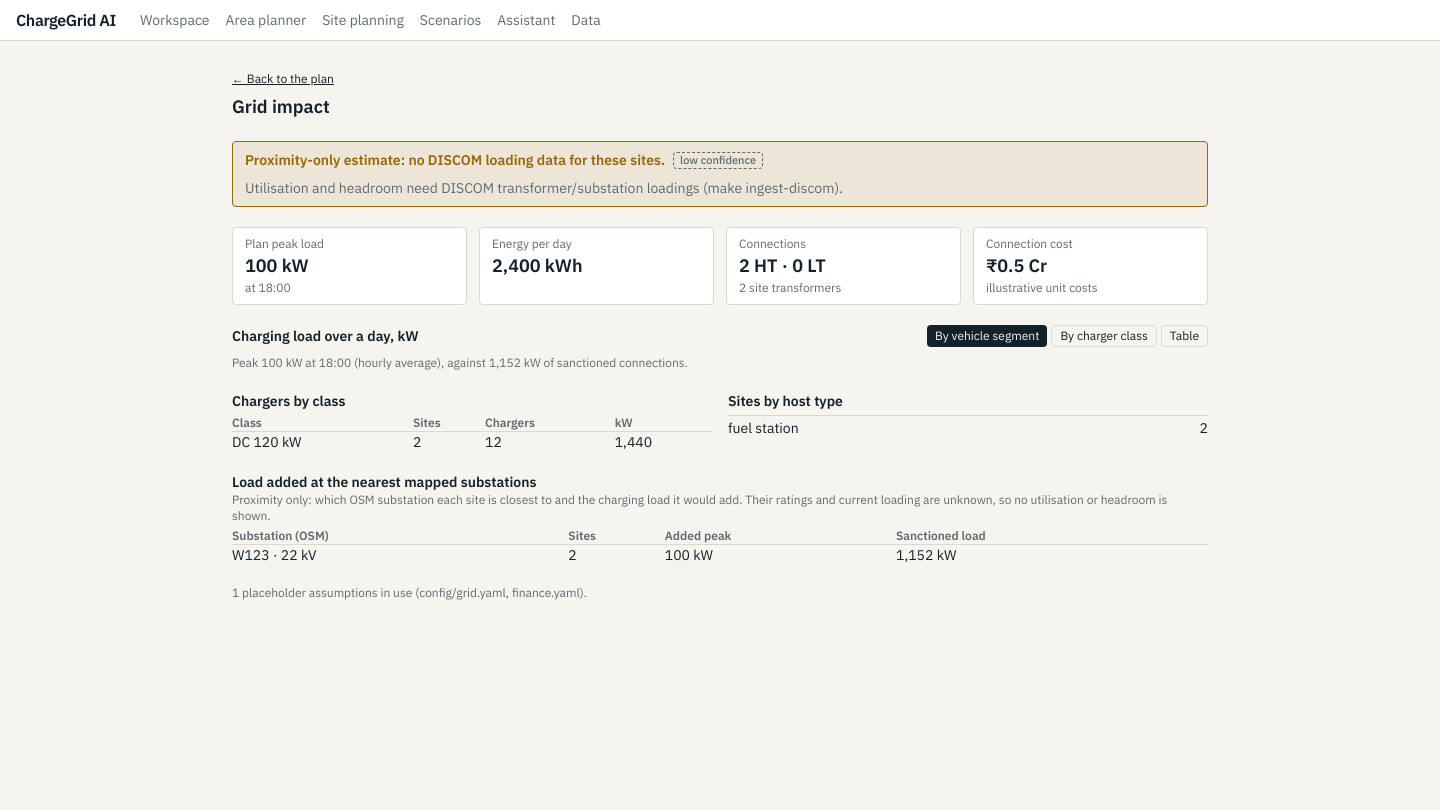
GridImpactPage › labels a proximity-only estimate and shows no utilisation
This screenshot has width=1440, height=810.
Expected: the text "Proximity-only estimate" is shown, [245,151,661,169]
Expected: the text "low confidence" is shown, [673,152,763,168]
Step 1. Click the button "Table" → click(1184, 336), box [1161,325,1208,347]
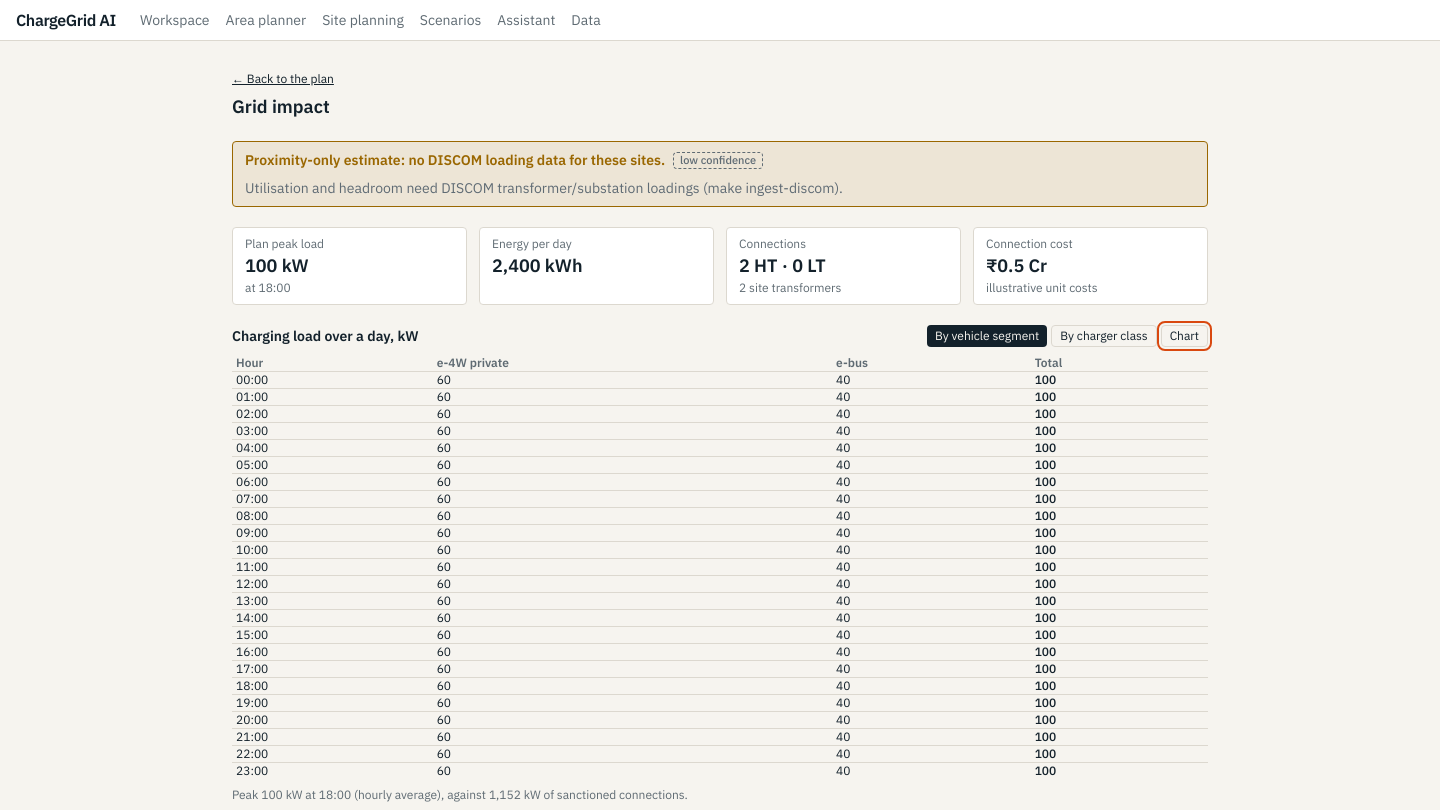
Result: the column heading "e-bus" is shown at [832,355,1031,372]
